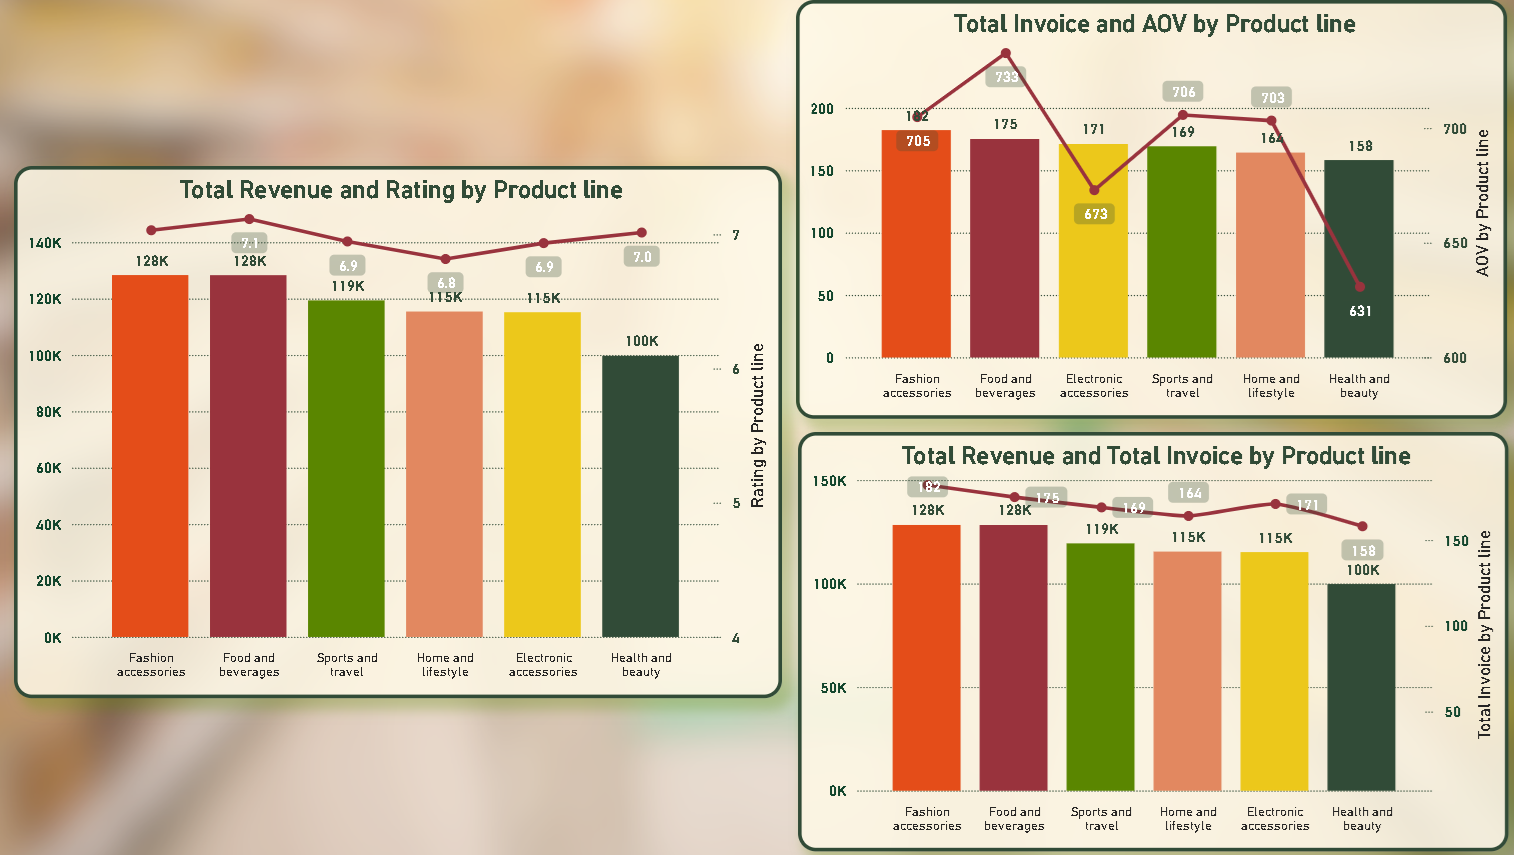

What the dashboard file says about the page in this screenshot:
{"tool":"powerbi","page":{"name":"PRODUCT LINE","canvas":[1280,720],"ordinal":4},"visuals":[{"type":"textbox","box":[2.4,0,769.2,113.7],"z":0},{"type":"lineStackedColumnComboChart","title":"Total Invoice and AOV by Product line","fields":{"Category":["supermarket_sales.Product line"],"Y":["Measure by Product line.Total Invoice by Product line"],"Y2":["Measure by Product line.AOV by Product line"]},"box":[663.8,0,592.5,348.8],"z":1000},{"type":"lineStackedColumnComboChart","title":"Total Revenue and Rating by Product line","fields":{"Category":["supermarket_sales.Product line"],"Y":["Measure by Product line.Total Revenue by Product line"],"Y2":["Measure by Product line.Rating by Product line"]},"box":[11.7,138.3,640,443.3],"z":2000},{"type":"lineStackedColumnComboChart","title":"Total Revenue and Total Invoice by Product line","fields":{"Category":["supermarket_sales.Product line"],"Y":["Measure by Product line.Total Revenue by Product line"],"Y2":["Measure by Product line.Total Invoice by Product line"]},"box":[665.2,359.5,591.9,349.7],"z":3000}]}

Visuals, with their boxes in screenshot pixels (x1, y1, x2, y2), scaled from the page's 1280x720 canvas onto the 1514x855 screenshot:
textbox: x1=3, y1=0, x2=913, y2=135
"Total Invoice and AOV by Product line" lineStackedColumnComboChart: x1=785, y1=0, x2=1486, y2=414
"Total Revenue and Rating by Product line" lineStackedColumnComboChart: x1=14, y1=164, x2=771, y2=691
"Total Revenue and Total Invoice by Product line" lineStackedColumnComboChart: x1=787, y1=427, x2=1487, y2=842
